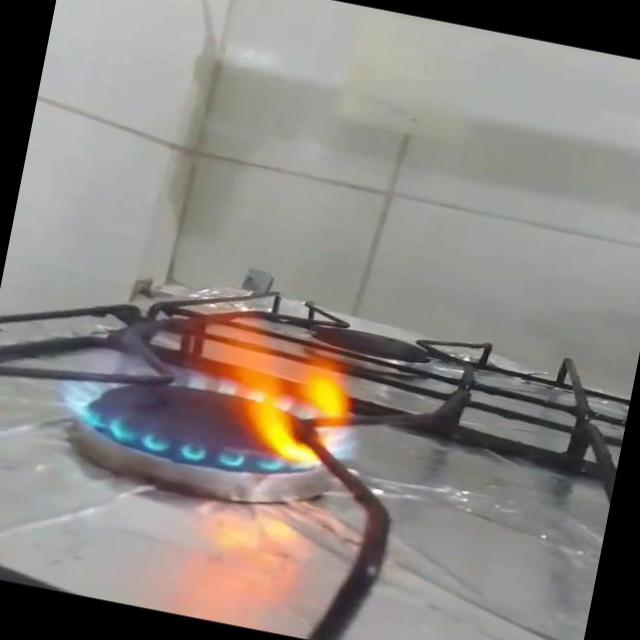Fire: (51, 268, 388, 496)
